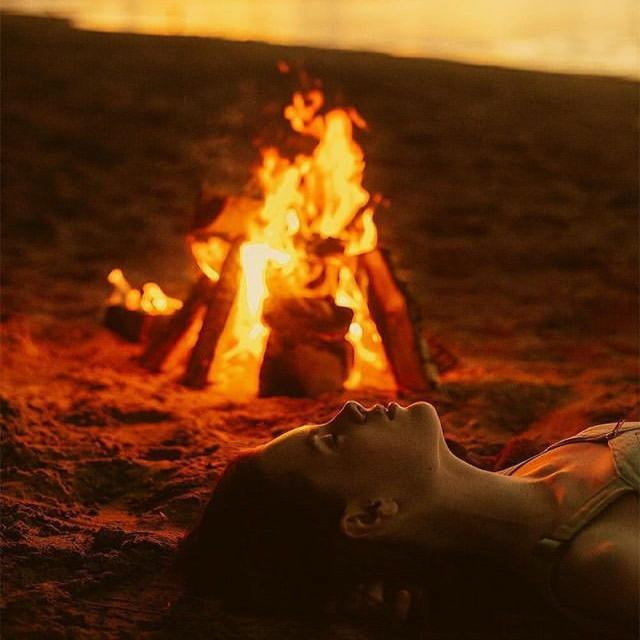Fire: (128, 71, 430, 406)
